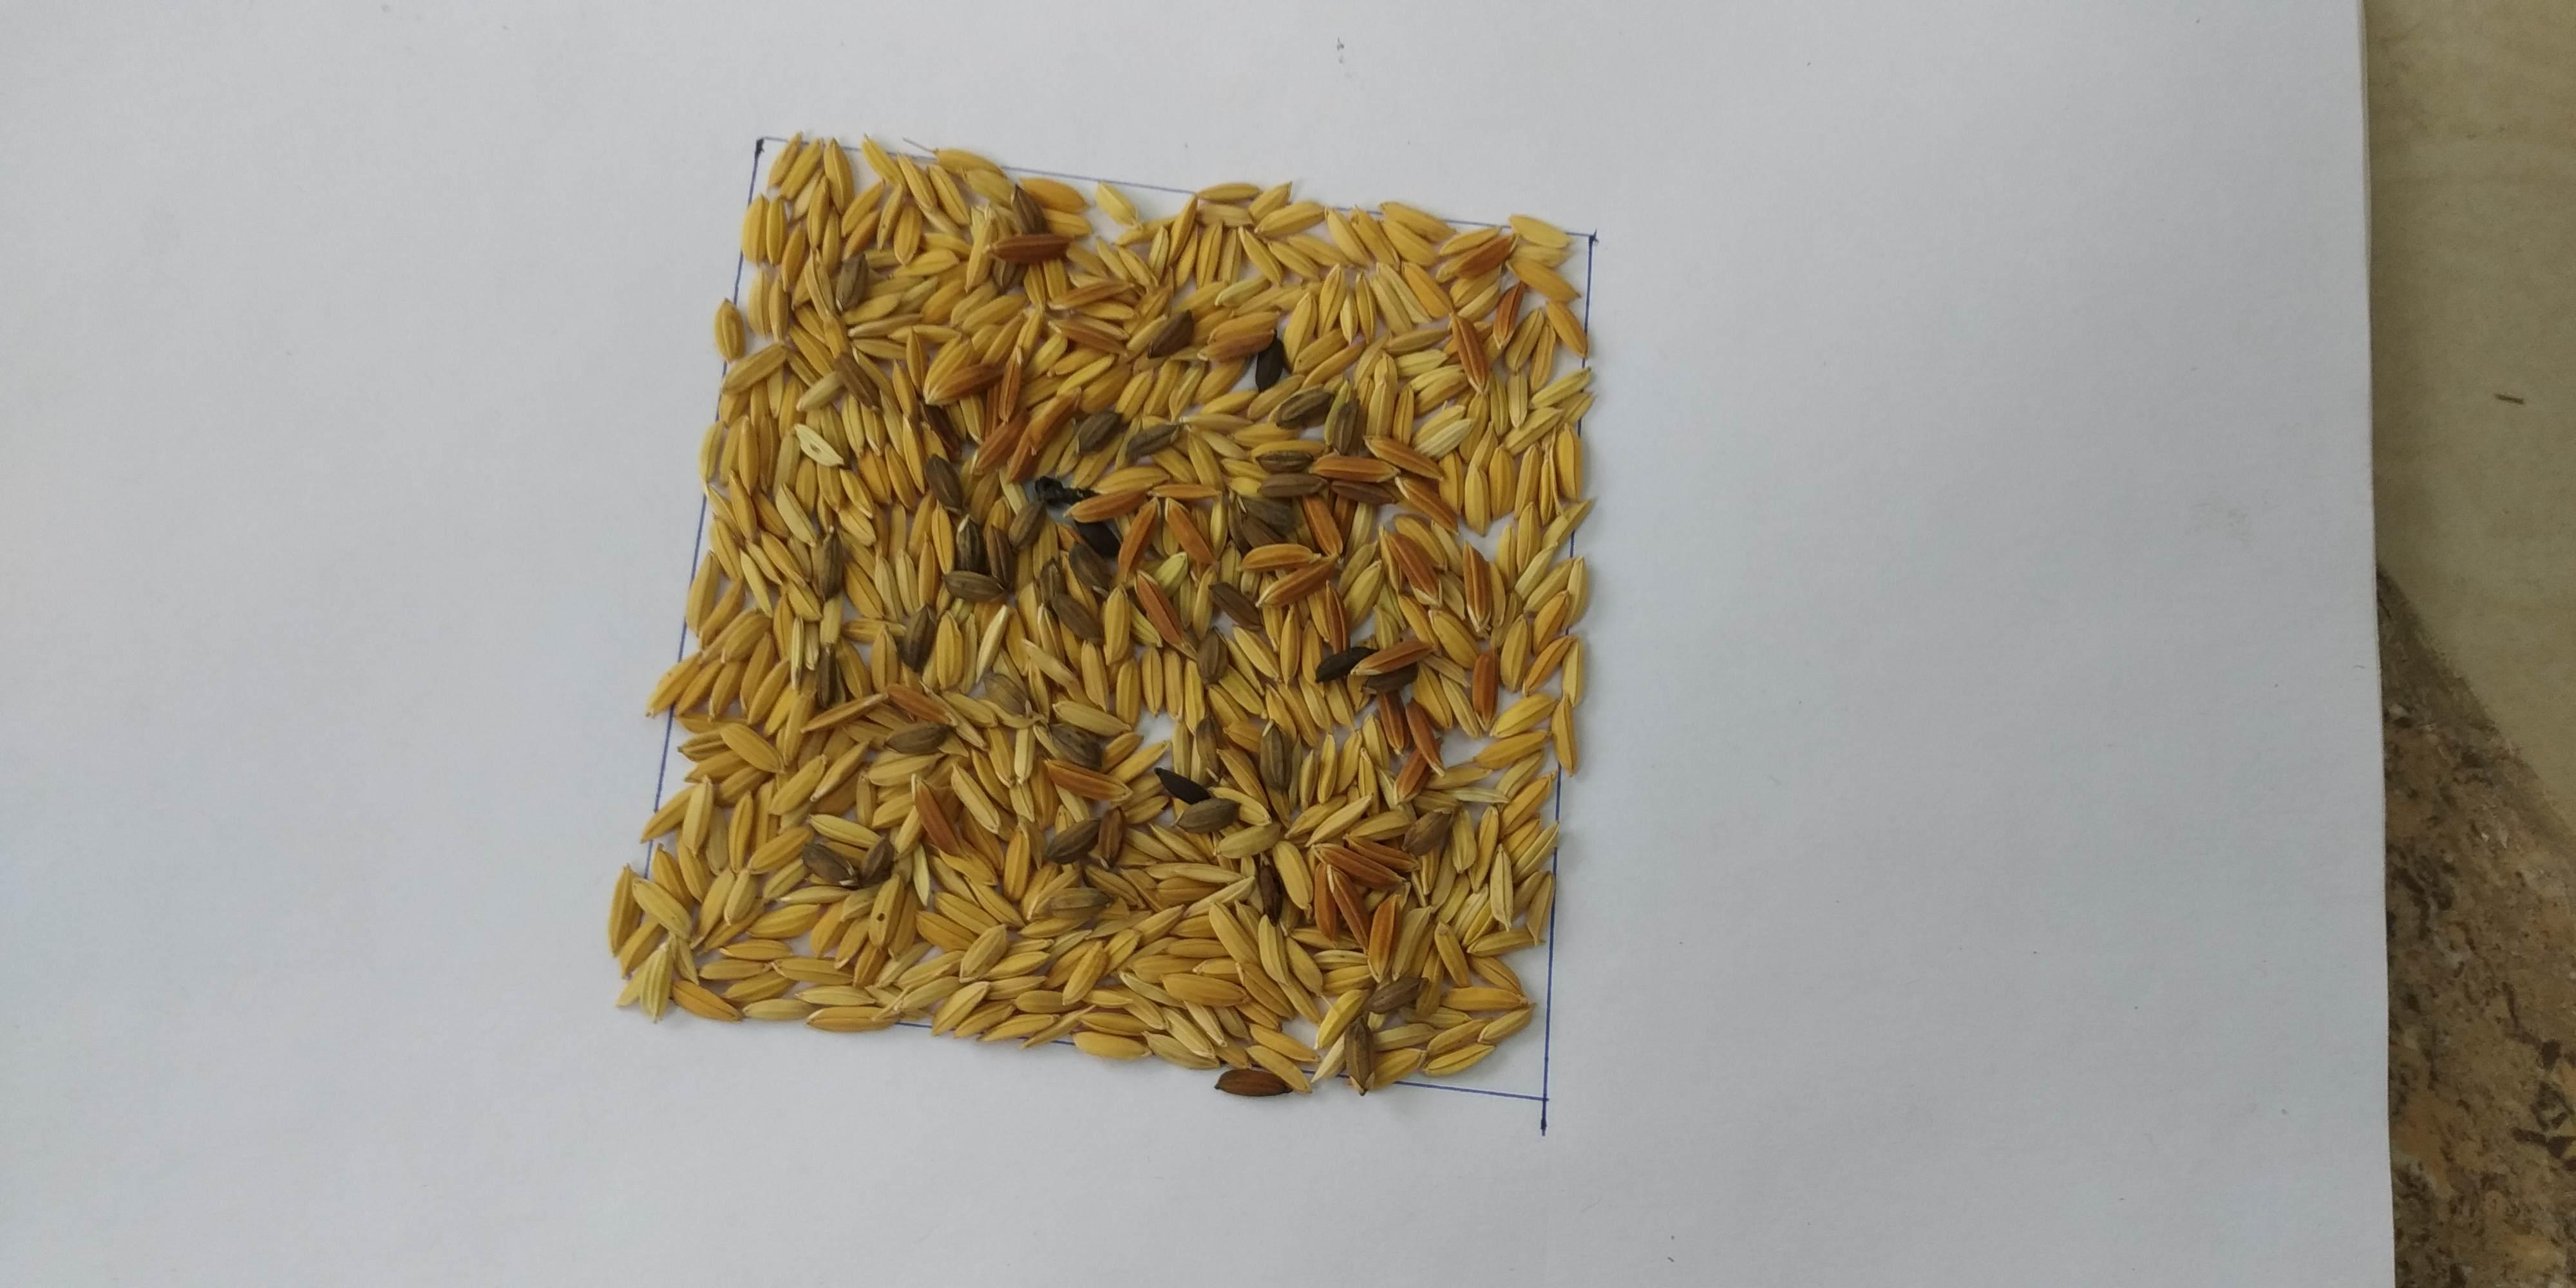impure: (749, 227, 1525, 1010)
